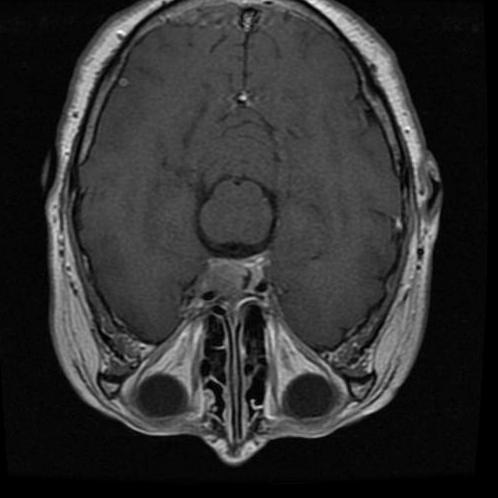Tumour-Pituitary: (185, 245, 284, 303)
